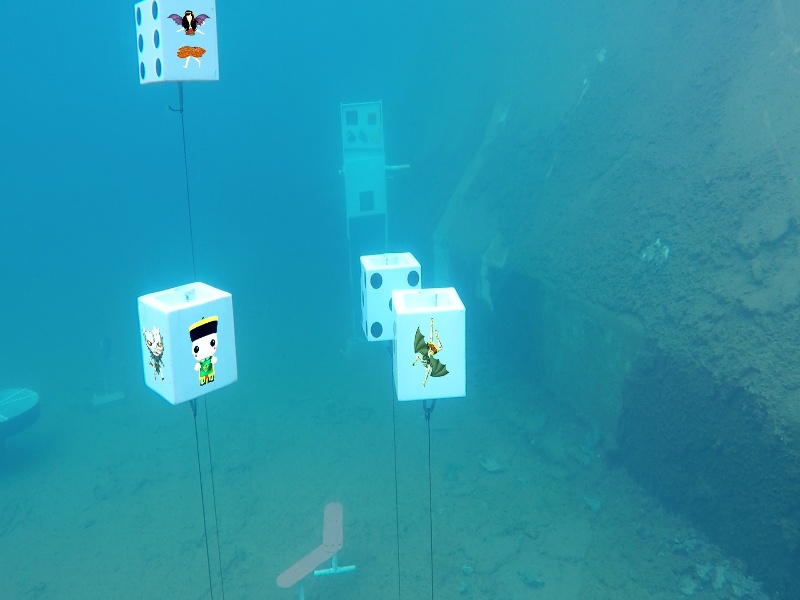Aswang: (165, 9, 219, 72)
Draugr: (138, 322, 171, 383)
Jiangshi: (187, 315, 225, 387)
Vetalas: (410, 317, 455, 387)
